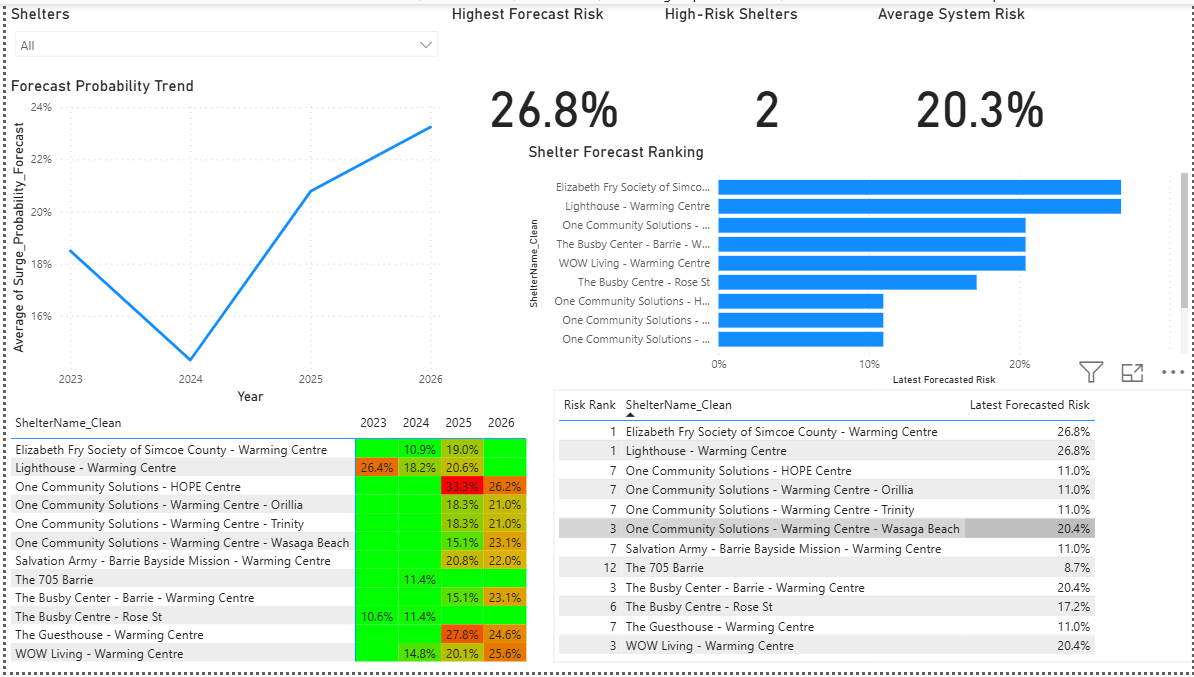

This screenshot's page, from the dashboard's own definition file:
{"tool":"powerbi","page":{"name":"Forecast Outlook & Scenario Planning","canvas":[1280,720],"ordinal":2},"visuals":[{"type":"slicer","title":"Shelters","fields":{"Values":["SCORED_SHELTER_FORECAST.ShelterName_Clean"]},"box":[0,0,475.7,77.7],"z":0},{"type":"card","title":"Highest Forecast Risk","fields":{"Values":["SCORED_SHELTER_FORECAST.Highest Current Risk"]},"box":[475.7,0,229.8,194.2],"z":1000},{"type":"card","title":"High-Risk Shelters","fields":{"Values":["SCORED_SHELTER_FORECAST.High Risk Shelters"]},"box":[705.4,0,229.8,194.2],"z":2000},{"type":"card","title":"Average System Risk","fields":{"Values":["SCORED_SHELTER_FORECAST.Average System Risk"]},"box":[935.2,0,229.8,194.2],"z":3000},{"type":"pivotTable","fields":{"Rows":["SCORED_SHELTER_FORECAST.ShelterName_Clean"],"Columns":["SCORED_SHELTER_FORECAST.YearMonth.Variation.Date Hierarchy.Year"],"Values":["Avg(SCORED_SHELTER_FORECAST.Surge_Probability_Forecast)"]},"box":[0,435.2,590.6,284.8],"z":4000},{"type":"lineChart","title":"Forecast Probability Trend","fields":{"Category":["SCORED_SHELTER_FORECAST.YearMonth.Variation.Date Hierarchy.Year"],"Y":["Avg(SCORED_SHELTER_FORECAST.Surge_Probability_Forecast)"]},"box":[0,77.7,475.7,357.6],"z":4001},{"type":"clusteredBarChart","title":"Shelter Forecast Ranking","fields":{"Category":["SCORED_SHELTER_FORECAST.ShelterName_Clean"],"Y":["SCORED_SHELTER_FORECAST.Latest Forecasted Risk"]},"box":[590.6,194.2,689.3,241.1],"z":4002},{"type":"tableEx","fields":{"Values":["SCORED_SHELTER_FORECAST.Risk Rank","SCORED_SHELTER_FORECAST.ShelterName_Clean","SCORED_SHELTER_FORECAST.Latest Forecasted Risk"]},"box":[590.6,443.3,689.3,267],"z":4003}]}

Visuals, with their boxes in screenshot pixels (x1, y1, x2, y2), scaled from the page's 1280x720 canvas onto the 1194x677 screenshot:
"Shelters" slicer: left=0, top=0, right=444, bottom=73
"Highest Forecast Risk" card: left=444, top=0, right=658, bottom=183
"High-Risk Shelters" card: left=658, top=0, right=872, bottom=183
"Average System Risk" card: left=872, top=0, right=1087, bottom=183
pivotTable - SCORED_SHELTER_FORECAST.ShelterName_Clean x SCORED_SHELTER_FORECAST.YearMonth.Variation.Date Hierarchy.Year: left=0, top=409, right=551, bottom=676
"Forecast Probability Trend" lineChart: left=0, top=73, right=444, bottom=409
"Shelter Forecast Ranking" clusteredBarChart: left=551, top=183, right=1193, bottom=409
tableEx - SCORED_SHELTER_FORECAST.Risk Rank x SCORED_SHELTER_FORECAST.ShelterName_Clean: left=551, top=417, right=1193, bottom=668
